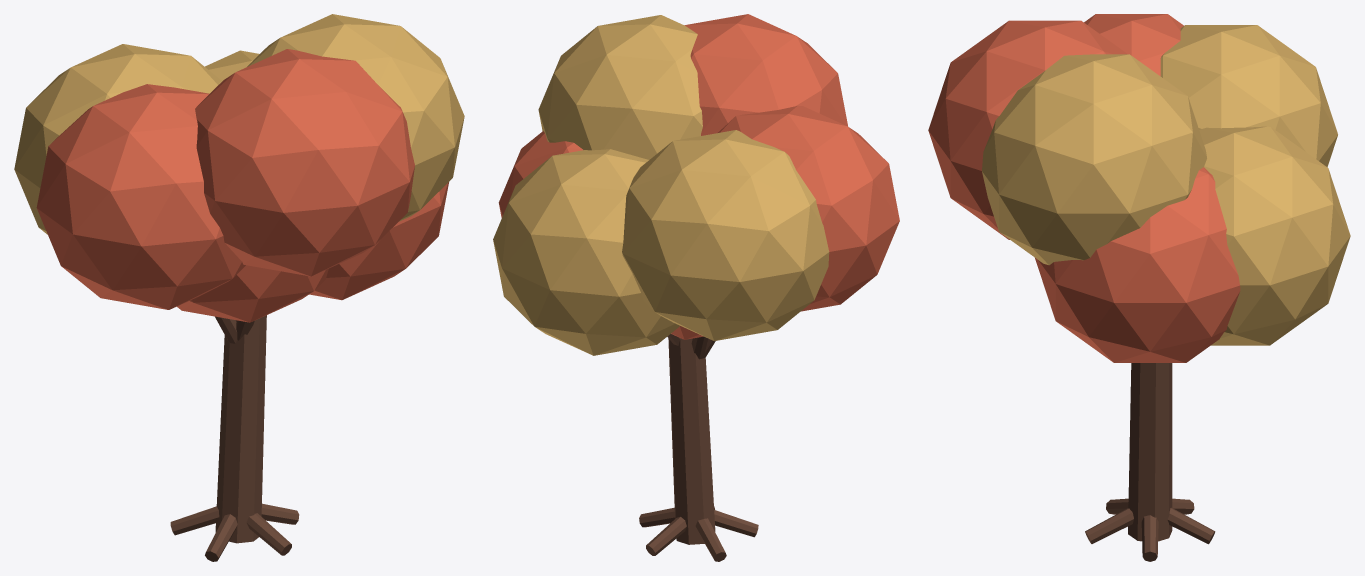
The model's file is tree_autumn.glb.
The picture shows the model from 3 angles, left to right: view 1: azimuth 30°, elevation 25°; view 2: azimuth 150°, elevation 25°; view 3: azimuth 270°, elevation 25°; orthographic projection. The views are drawn at different scales.
Parts seen in each view (by area): view 1: Geometry; view 2: Geometry; view 3: Geometry.
Part boxes in pixels (box(x1,y1,x2,y2)): Geometry: box(14, 14, 464, 561); Geometry: box(493, 14, 899, 561); Geometry: box(928, 14, 1350, 561).
Size of the model in its own units: 2.74 by 3.48 by 2.6.
